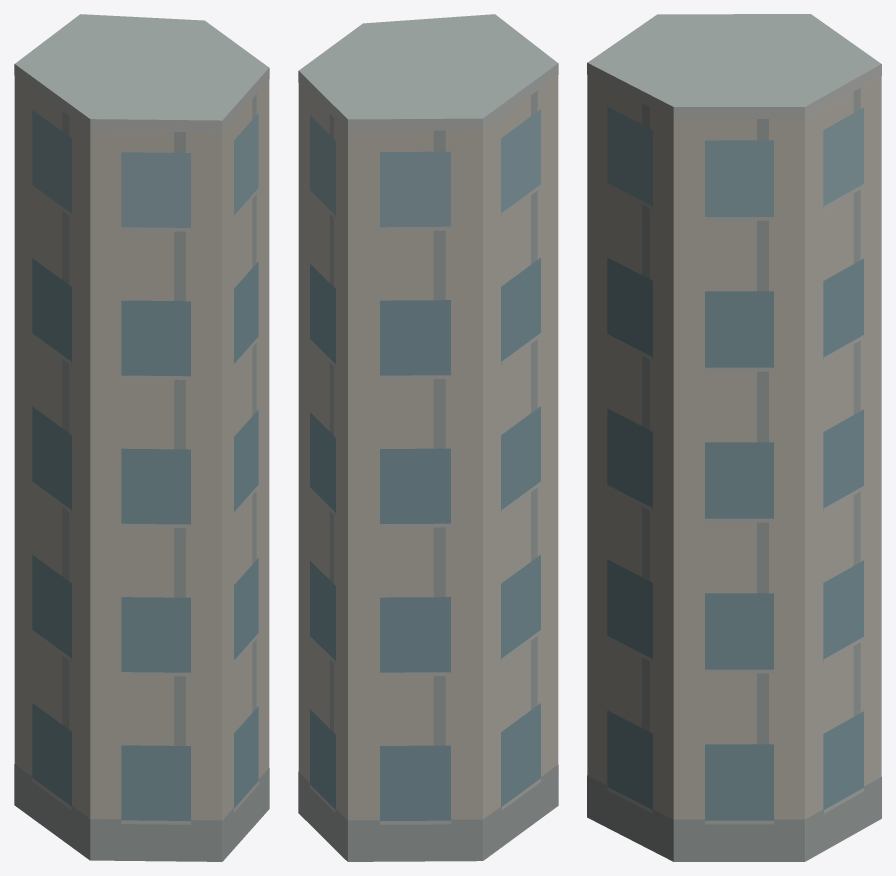
Rendered from survey-upis-32813838.glb.
3 renders of one model, left to right at view 1: azimuth 30°, elevation 25°; view 2: azimuth 150°, elevation 25°; view 3: azimuth 270°, elevation 25°, orthographic.
Visible parts, largest first — view 1: survey-upis-32813838.tmp; view 2: survey-upis-32813838.tmp; view 3: survey-upis-32813838.tmp.
Boxes of the visible parts, x1=… form: survey-upis-32813838.tmp: x1=14, y1=14, x2=269, y2=861; survey-upis-32813838.tmp: x1=298, y1=14, x2=558, y2=861; survey-upis-32813838.tmp: x1=587, y1=14, x2=881, y2=861.
Bounding box in the file's own units: 4.06 × 15.25 × 5.4.
